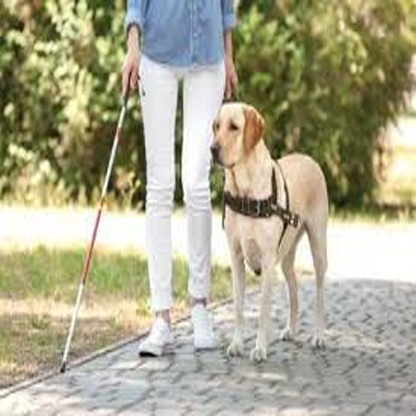guide-dog: (205, 97, 355, 374)
